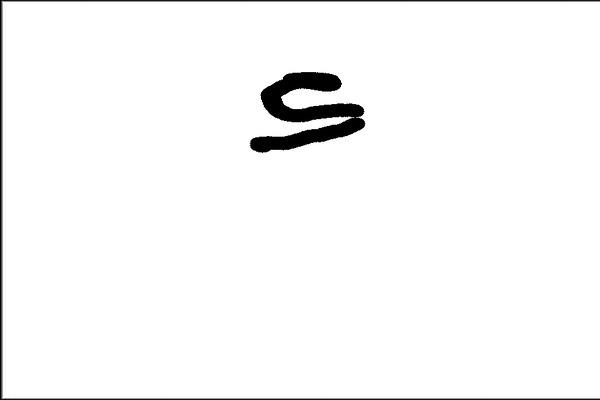S: (244, 66, 374, 159)
